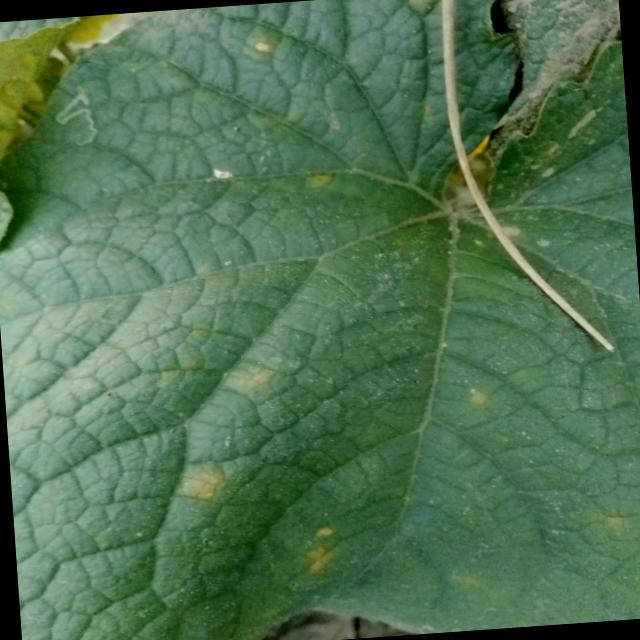cucumber_downy: (0, 12, 640, 603)
